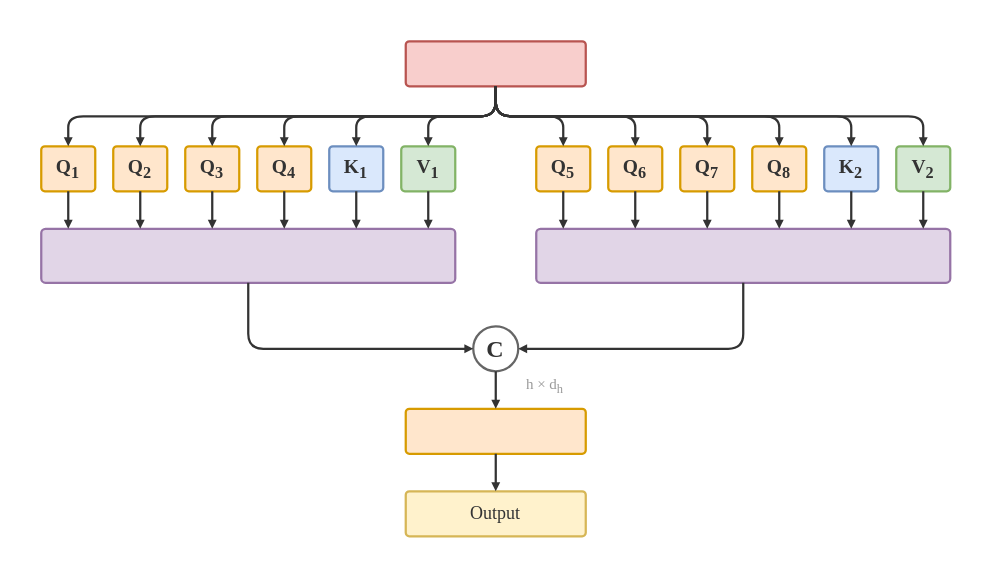
This 990x576 diagram has some shape labels left out. Here are the shapes that lost their labels. From the top down, the centre of each, then its label:
At (495,63): "Input X".
At (247,255): "Attention, heads 1-4 (share K 1 , V 1 )".
At (742,255): "Attention, heads 5-8 (share K 2 , V 2 )".
At (495,430): "Linear W O".
